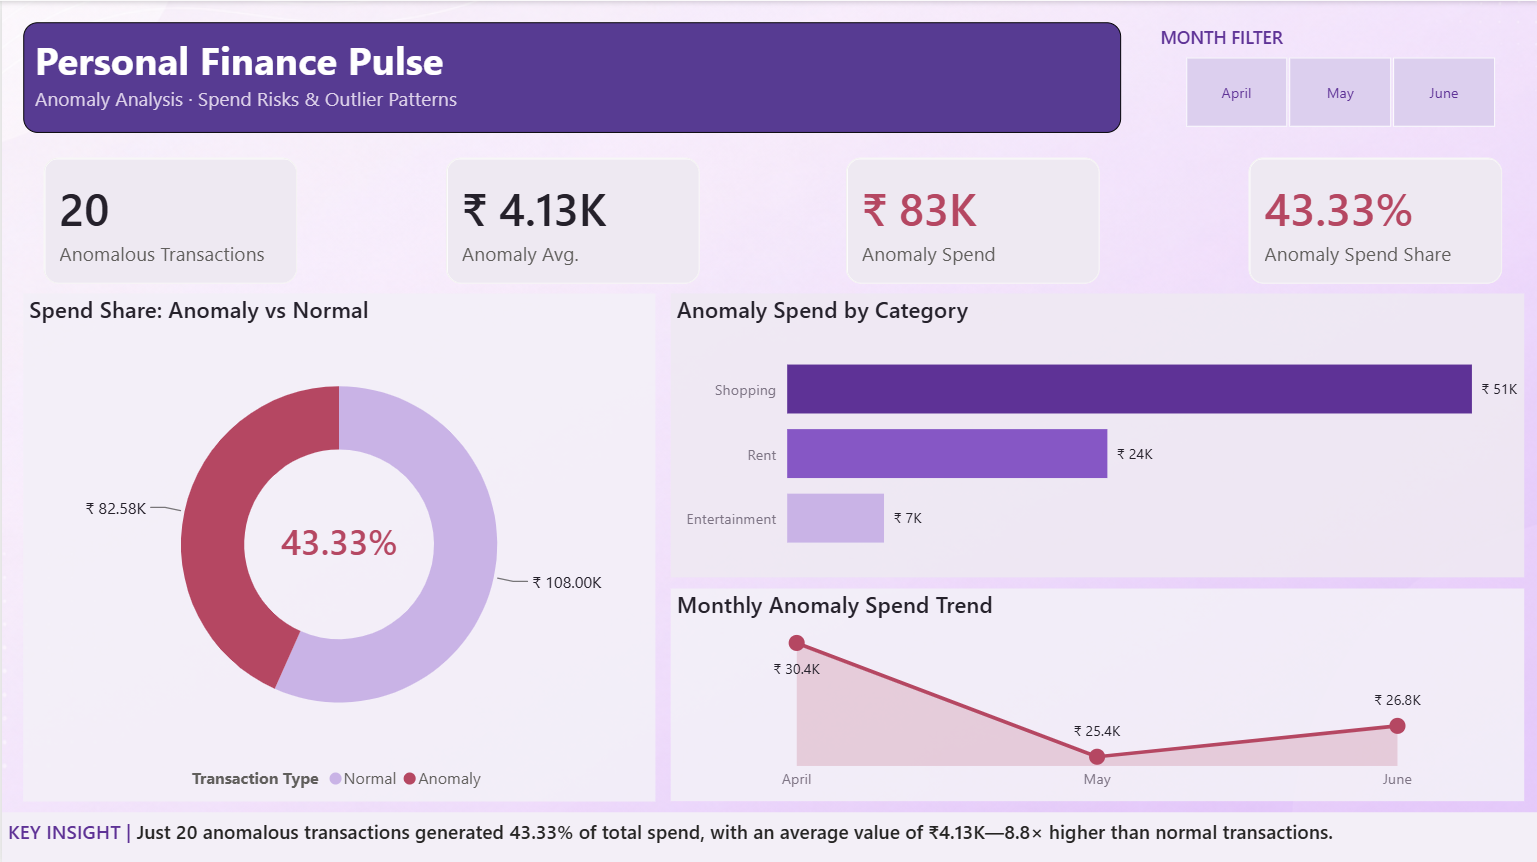

The page's visual inventory and layout, read from the dashboard file:
{"tool":"powerbi","page":{"name":"Anomaly Analysis","canvas":[1280,720],"ordinal":2},"visuals":[{"type":"cardVisual","fields":{"Data":["finpulse transactions.Anomaly Count"]},"box":[17.4,112.8,245.3,139.5],"z":0},{"type":"cardVisual","fields":{"Data":["finpulse transactions.Anomaly Avg Transaction"]},"box":[352.3,112.8,245.3,139.5],"z":1000},{"type":"cardVisual","fields":{"Data":["finpulse transactions.Anomaly Spend %"]},"box":[1019.8,112.8,245.3,139.5],"z":2000},{"type":"cardVisual","fields":{"Data":["finpulse transactions.Anomaly Spend"]},"box":[684.9,112.8,245.3,139.5],"z":3000},{"type":"donutChart","title":"Spend Share: Anomaly vs Normal","fields":{"Category":["finpulse transactions.Transaction Type"],"Y":["finpulse transactions.Total Spend"]},"box":[17.4,243,525.6,422.1],"z":4000},{"type":"clusteredBarChart","title":"Anomaly Spend by Category","fields":{"Category":["finpulse transactions.category"],"Y":["finpulse transactions.Anomaly Spend"]},"box":[555.8,243,709.3,236],"z":5000},{"type":"areaChart","title":"Monthly Anomaly Spend Trend","fields":{"Category":["Calendar.Month"],"Y":["finpulse transactions.Anomaly Spend"]},"box":[555.8,488.4,709.3,176.7],"z":6000},{"type":"textbox","box":[17.4,17.4,912.8,91.9],"z":7000},{"type":"slicer","title":"MONTH FILTER","fields":{"Values":["Calendar.Month"]},"box":[958.1,19.8,307,91.9],"z":8000},{"type":"cardVisual","fields":{"Data":["finpulse transactions.Anomaly Spend %"]},"box":[157,418.6,245.3,139.5],"z":9000},{"type":"textbox","box":[0,674.4,1280.2,45.3],"z":9001}]}

Visuals, with their boxes in screenshot pixels (x1, y1, x2, y2), scaled from the page's 1280x720 canvas onto the 1537x862 screenshot:
cardVisual - finpulse transactions.Anomaly Count: (x1=21, y1=135, x2=315, y2=302)
cardVisual - finpulse transactions.Anomaly Avg Transaction: (x1=423, y1=135, x2=718, y2=302)
cardVisual - finpulse transactions.Anomaly Spend %: (x1=1225, y1=135, x2=1519, y2=302)
cardVisual - finpulse transactions.Anomaly Spend: (x1=822, y1=135, x2=1117, y2=302)
"Spend Share: Anomaly vs Normal" donutChart: (x1=21, y1=291, x2=652, y2=796)
"Anomaly Spend by Category" clusteredBarChart: (x1=667, y1=291, x2=1519, y2=573)
"Monthly Anomaly Spend Trend" areaChart: (x1=667, y1=585, x2=1519, y2=796)
textbox: (x1=21, y1=21, x2=1117, y2=131)
"MONTH FILTER" slicer: (x1=1150, y1=24, x2=1519, y2=134)
cardVisual - finpulse transactions.Anomaly Spend %: (x1=189, y1=501, x2=483, y2=668)
textbox: (x1=0, y1=807, x2=1536, y2=861)
